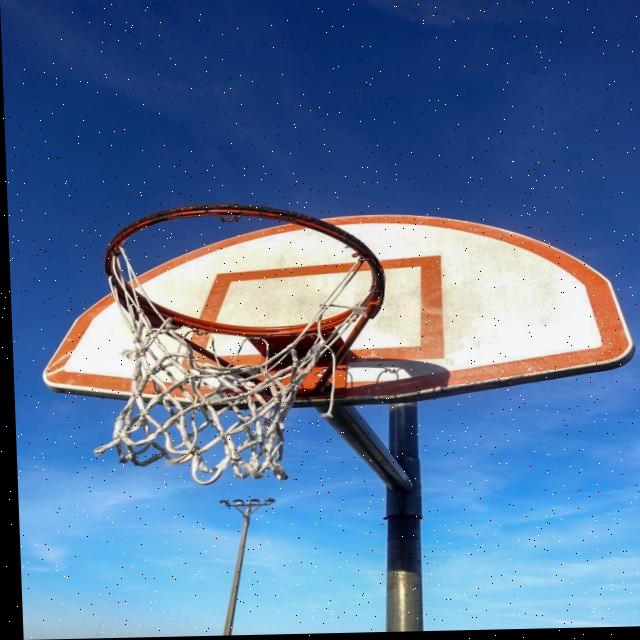hoop: (53, 195, 401, 495)
